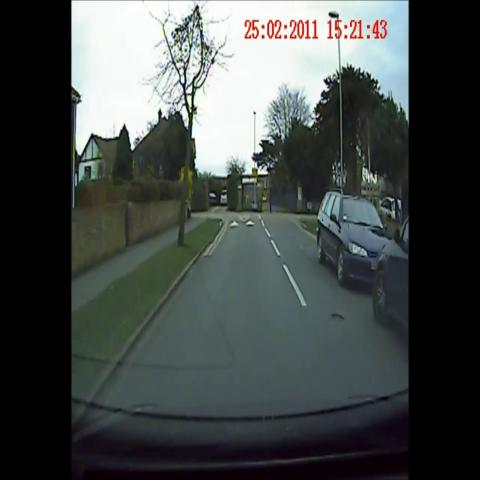pothole: (326, 306, 352, 331)
